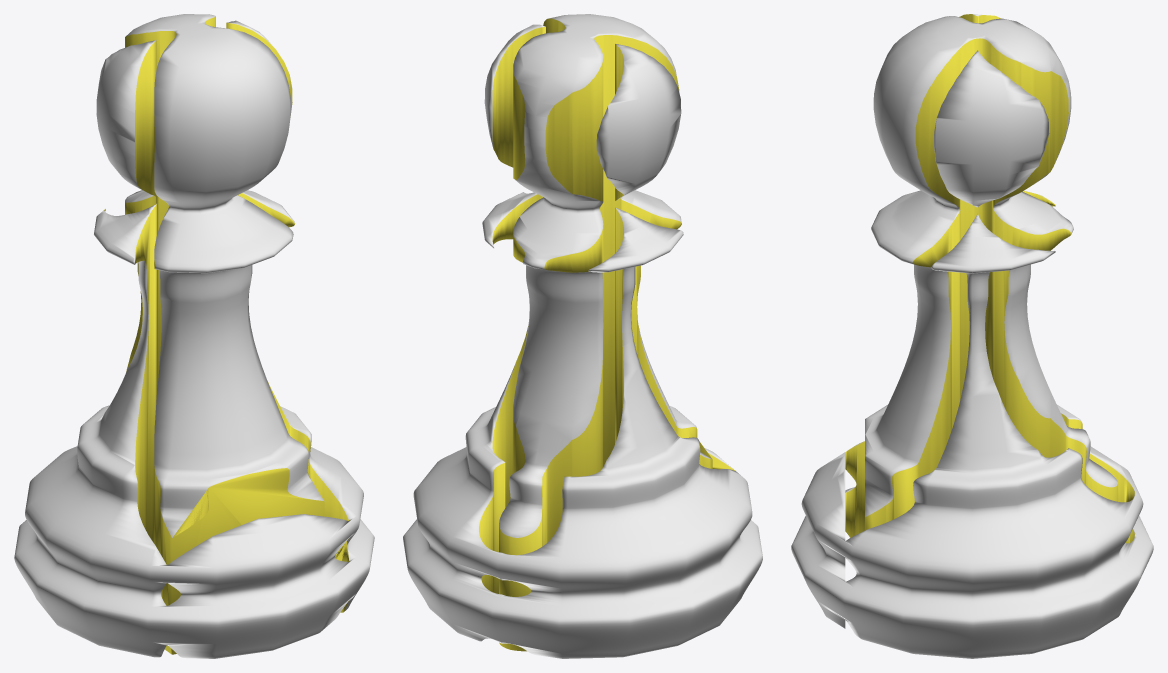
The model's file is WhitePawn.fbx.
The picture shows the model from 3 angles, left to right: view 1: azimuth 30°, elevation 25°; view 2: azimuth 150°, elevation 25°; view 3: azimuth 270°, elevation 25°; orthographic projection.
Visible parts, largest first — view 1: Pawn; view 2: Pawn; view 3: Pawn.
Part boxes in pixels (bbox=[...]): Pawn: bbox=[14, 14, 374, 658]; Pawn: bbox=[403, 14, 762, 658]; Pawn: bbox=[791, 14, 1153, 658].
Size of the model in its own units: 64.76 by 113 by 64.76.
